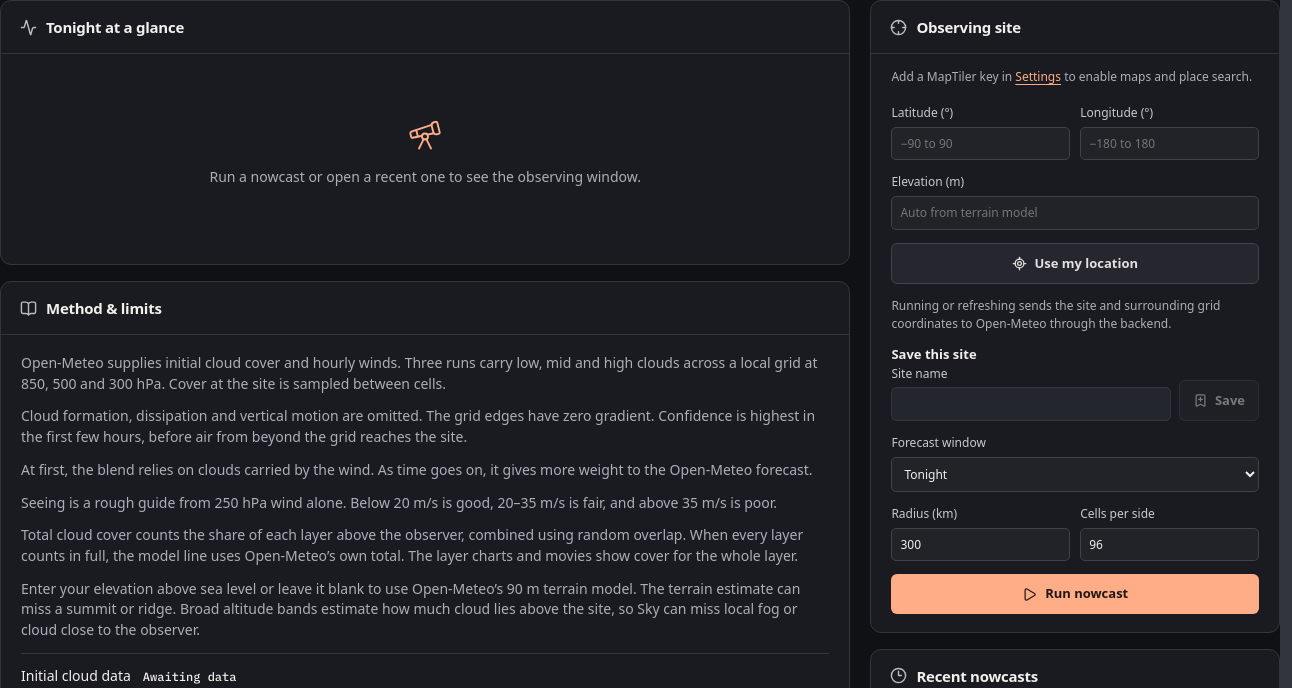
Test: explains a polar 422 and keeps the next-hours option available
Type "68" into the number field labelled "Latitude (°)".
click(981, 143); type("68")  # box [891, 126, 1070, 160]
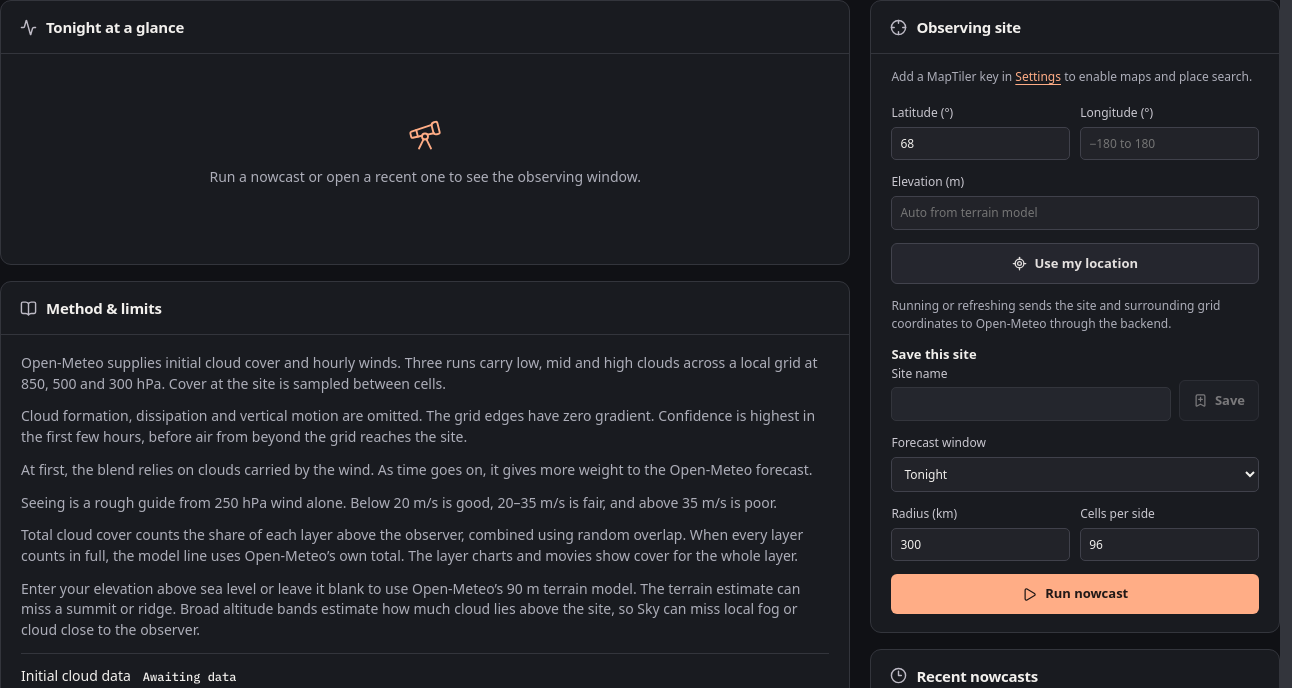
Type "16" into the number field labelled "Longitude (°)".
click(1170, 143); type("16")  # box [1080, 126, 1259, 160]
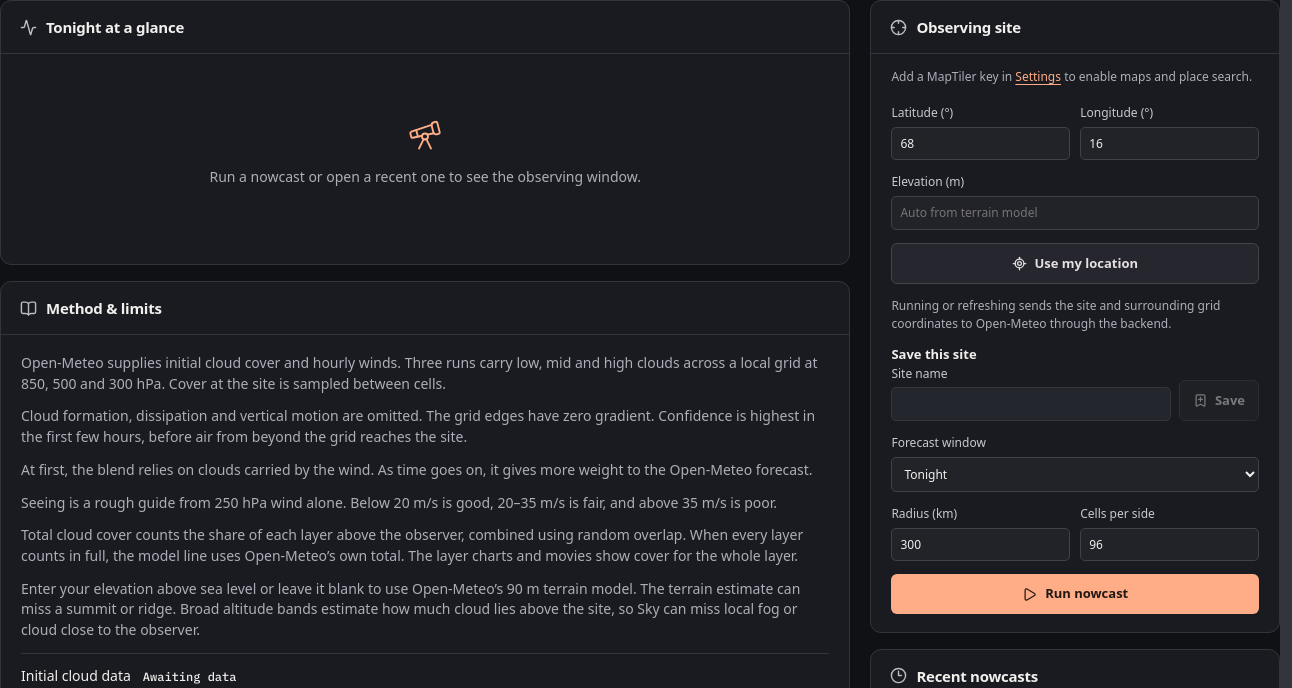
Click the button "Run nowcast".
click(1075, 594)  # box [891, 574, 1259, 614]
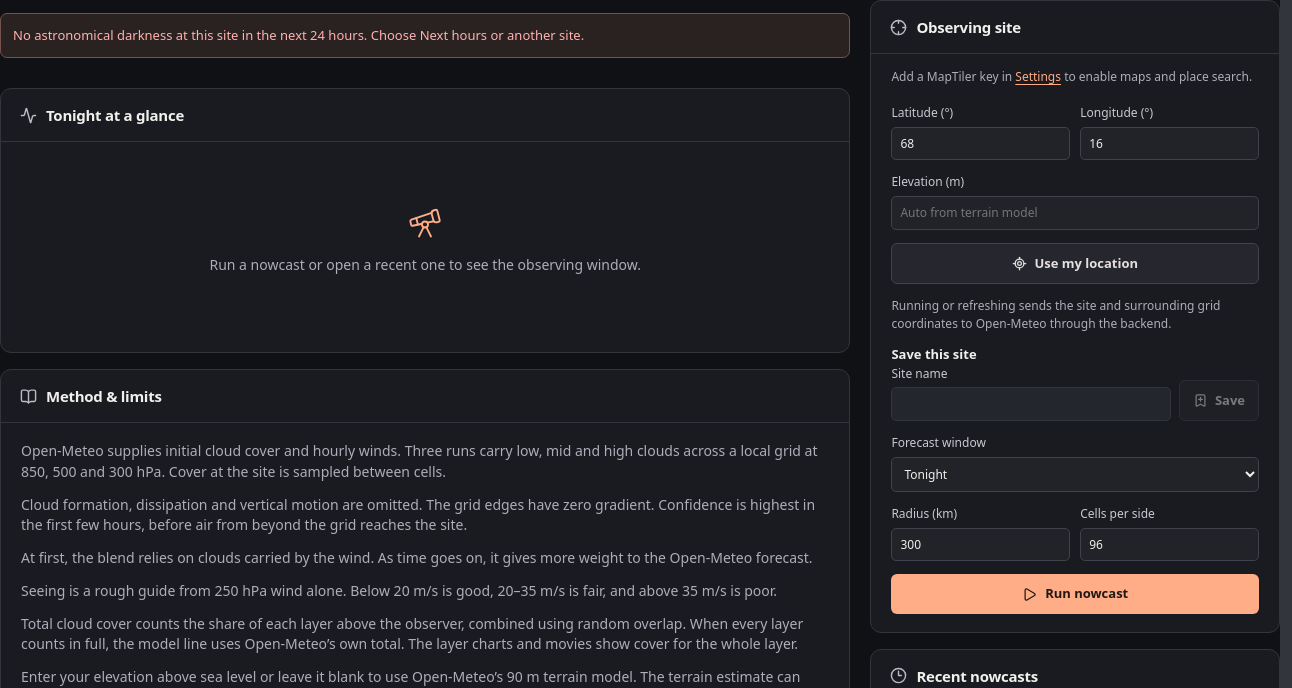
Now the message shows "Choose Next hours or another site", box [13, 26, 584, 44]
Select "Next hours" in the dropdown labelled "Forecast window" at {"x": 1075, "y": 474}, box [891, 457, 1259, 492]
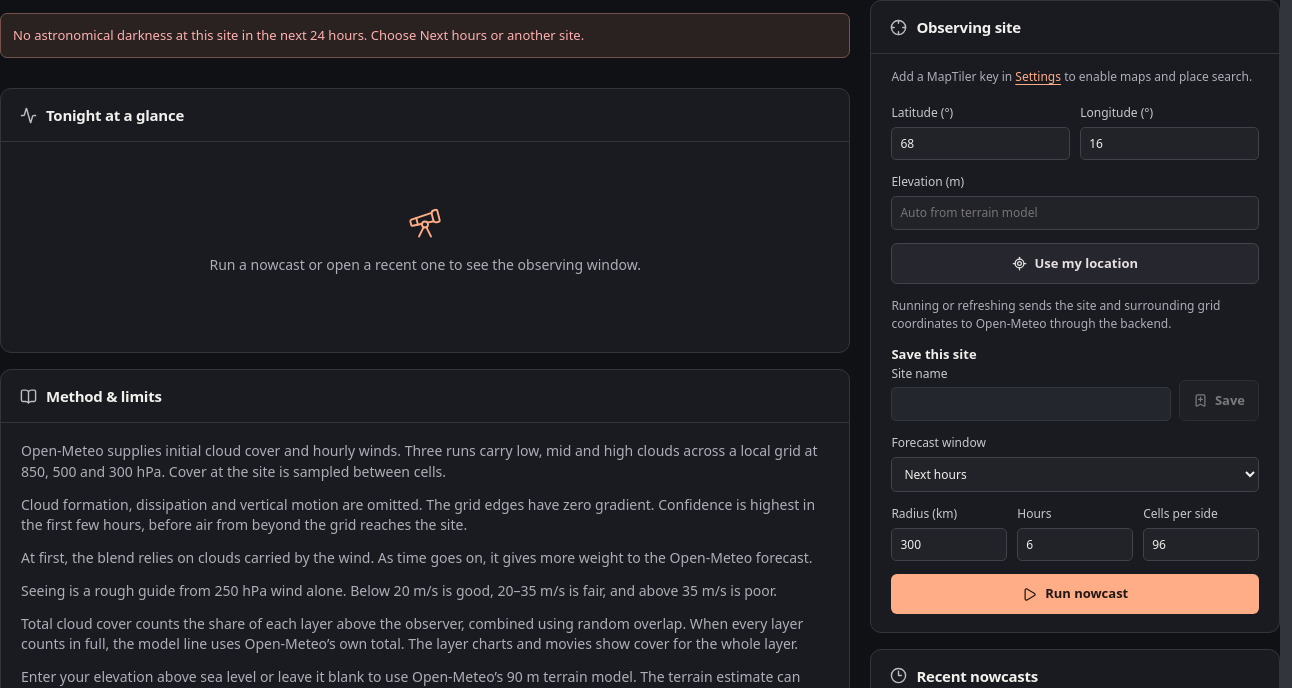
Now the number field labelled "Hours" is enabled, box [1017, 528, 1133, 562]
